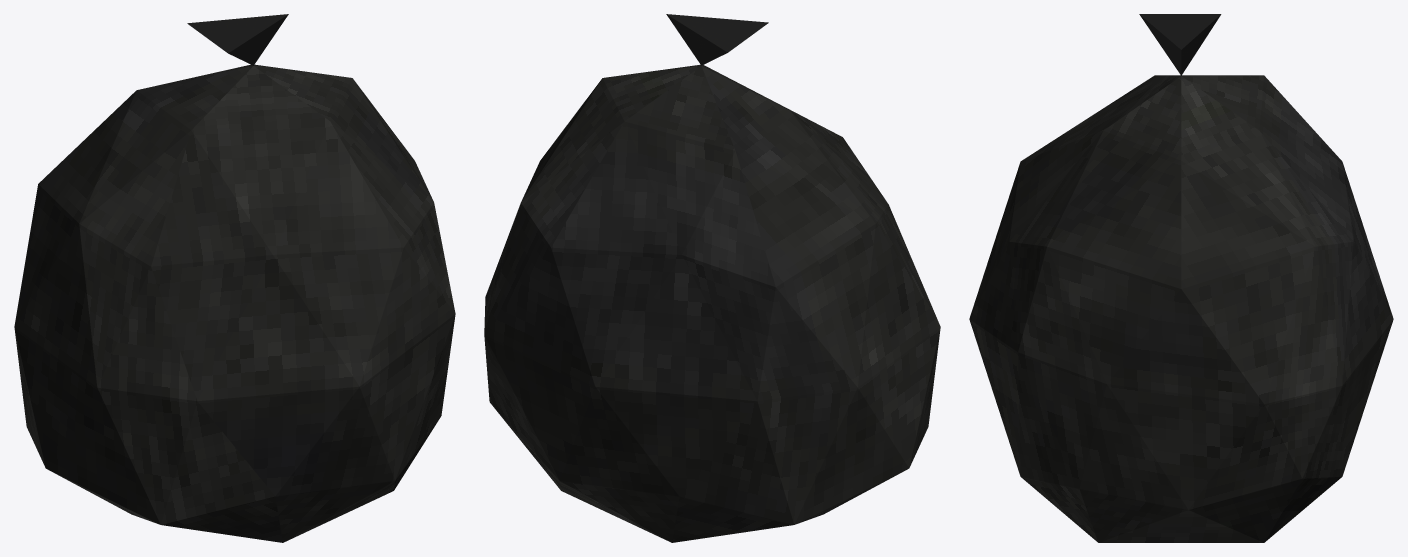
The model's file is trashbag_4.glb.
3 views of the same model, side by side, from view 1: azimuth 30°, elevation 25°; view 2: azimuth 150°, elevation 25°; view 3: azimuth 270°, elevation 25° (orthographic).
Parts seen in each view (by area): view 1: TrashBagFull; view 2: TrashBagFull; view 3: TrashBagFull.
Part boxes in pixels (x1,y1,x2,y2): TrashBagFull: (14, 14, 455, 542); TrashBagFull: (484, 14, 940, 542); TrashBagFull: (969, 14, 1393, 542).
Size of the model in its own units: 0.8227 by 1.02 by 0.7909.
1 material, 1 textured.
